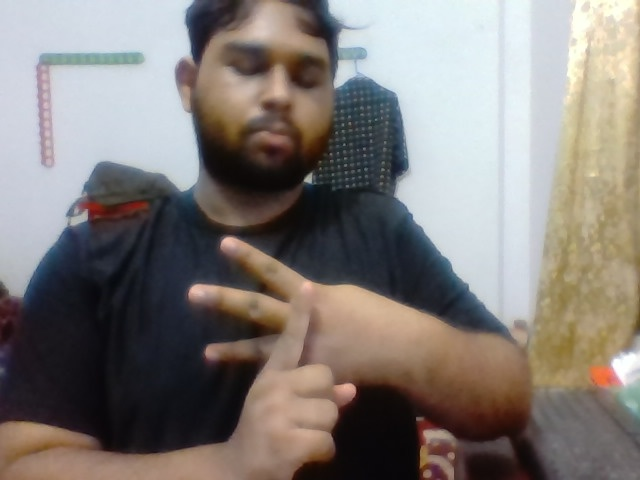E: (167, 218, 394, 472)
